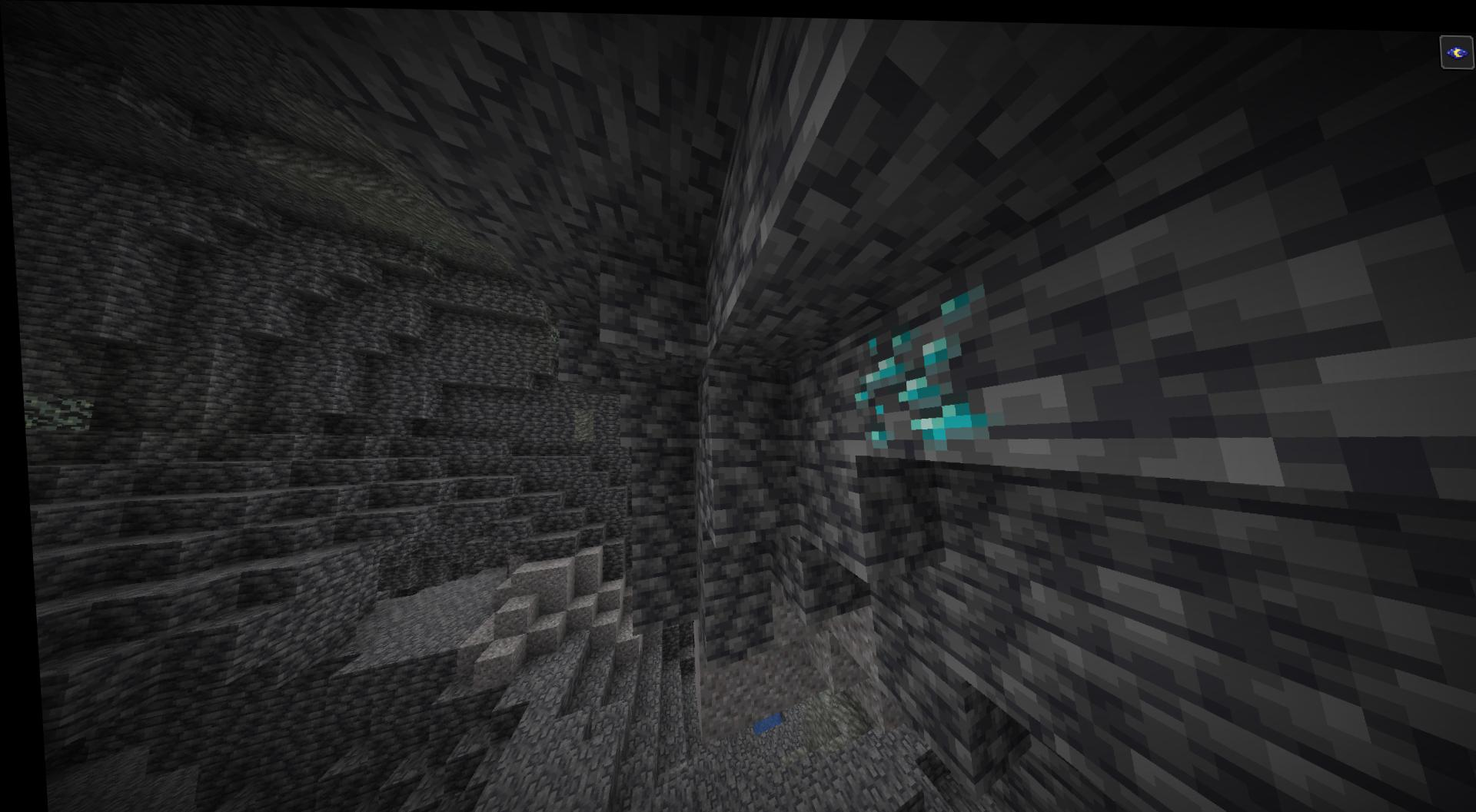diamond ore: (846, 280, 993, 453)
